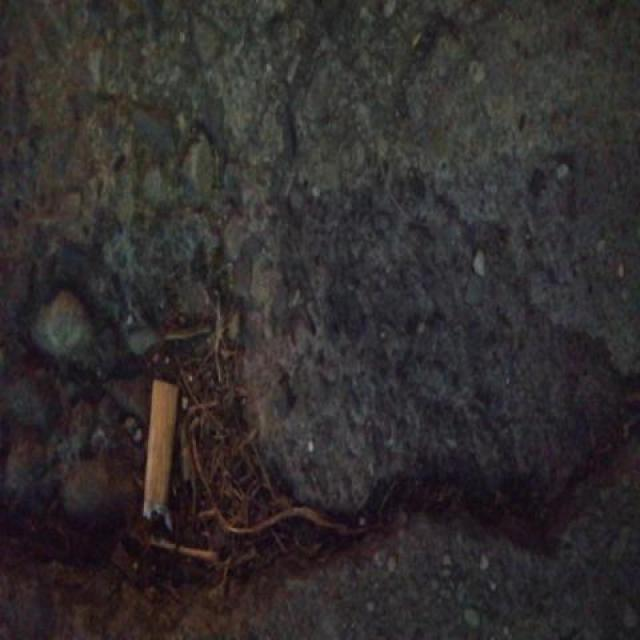non-organic waste: (137, 375, 186, 538)
